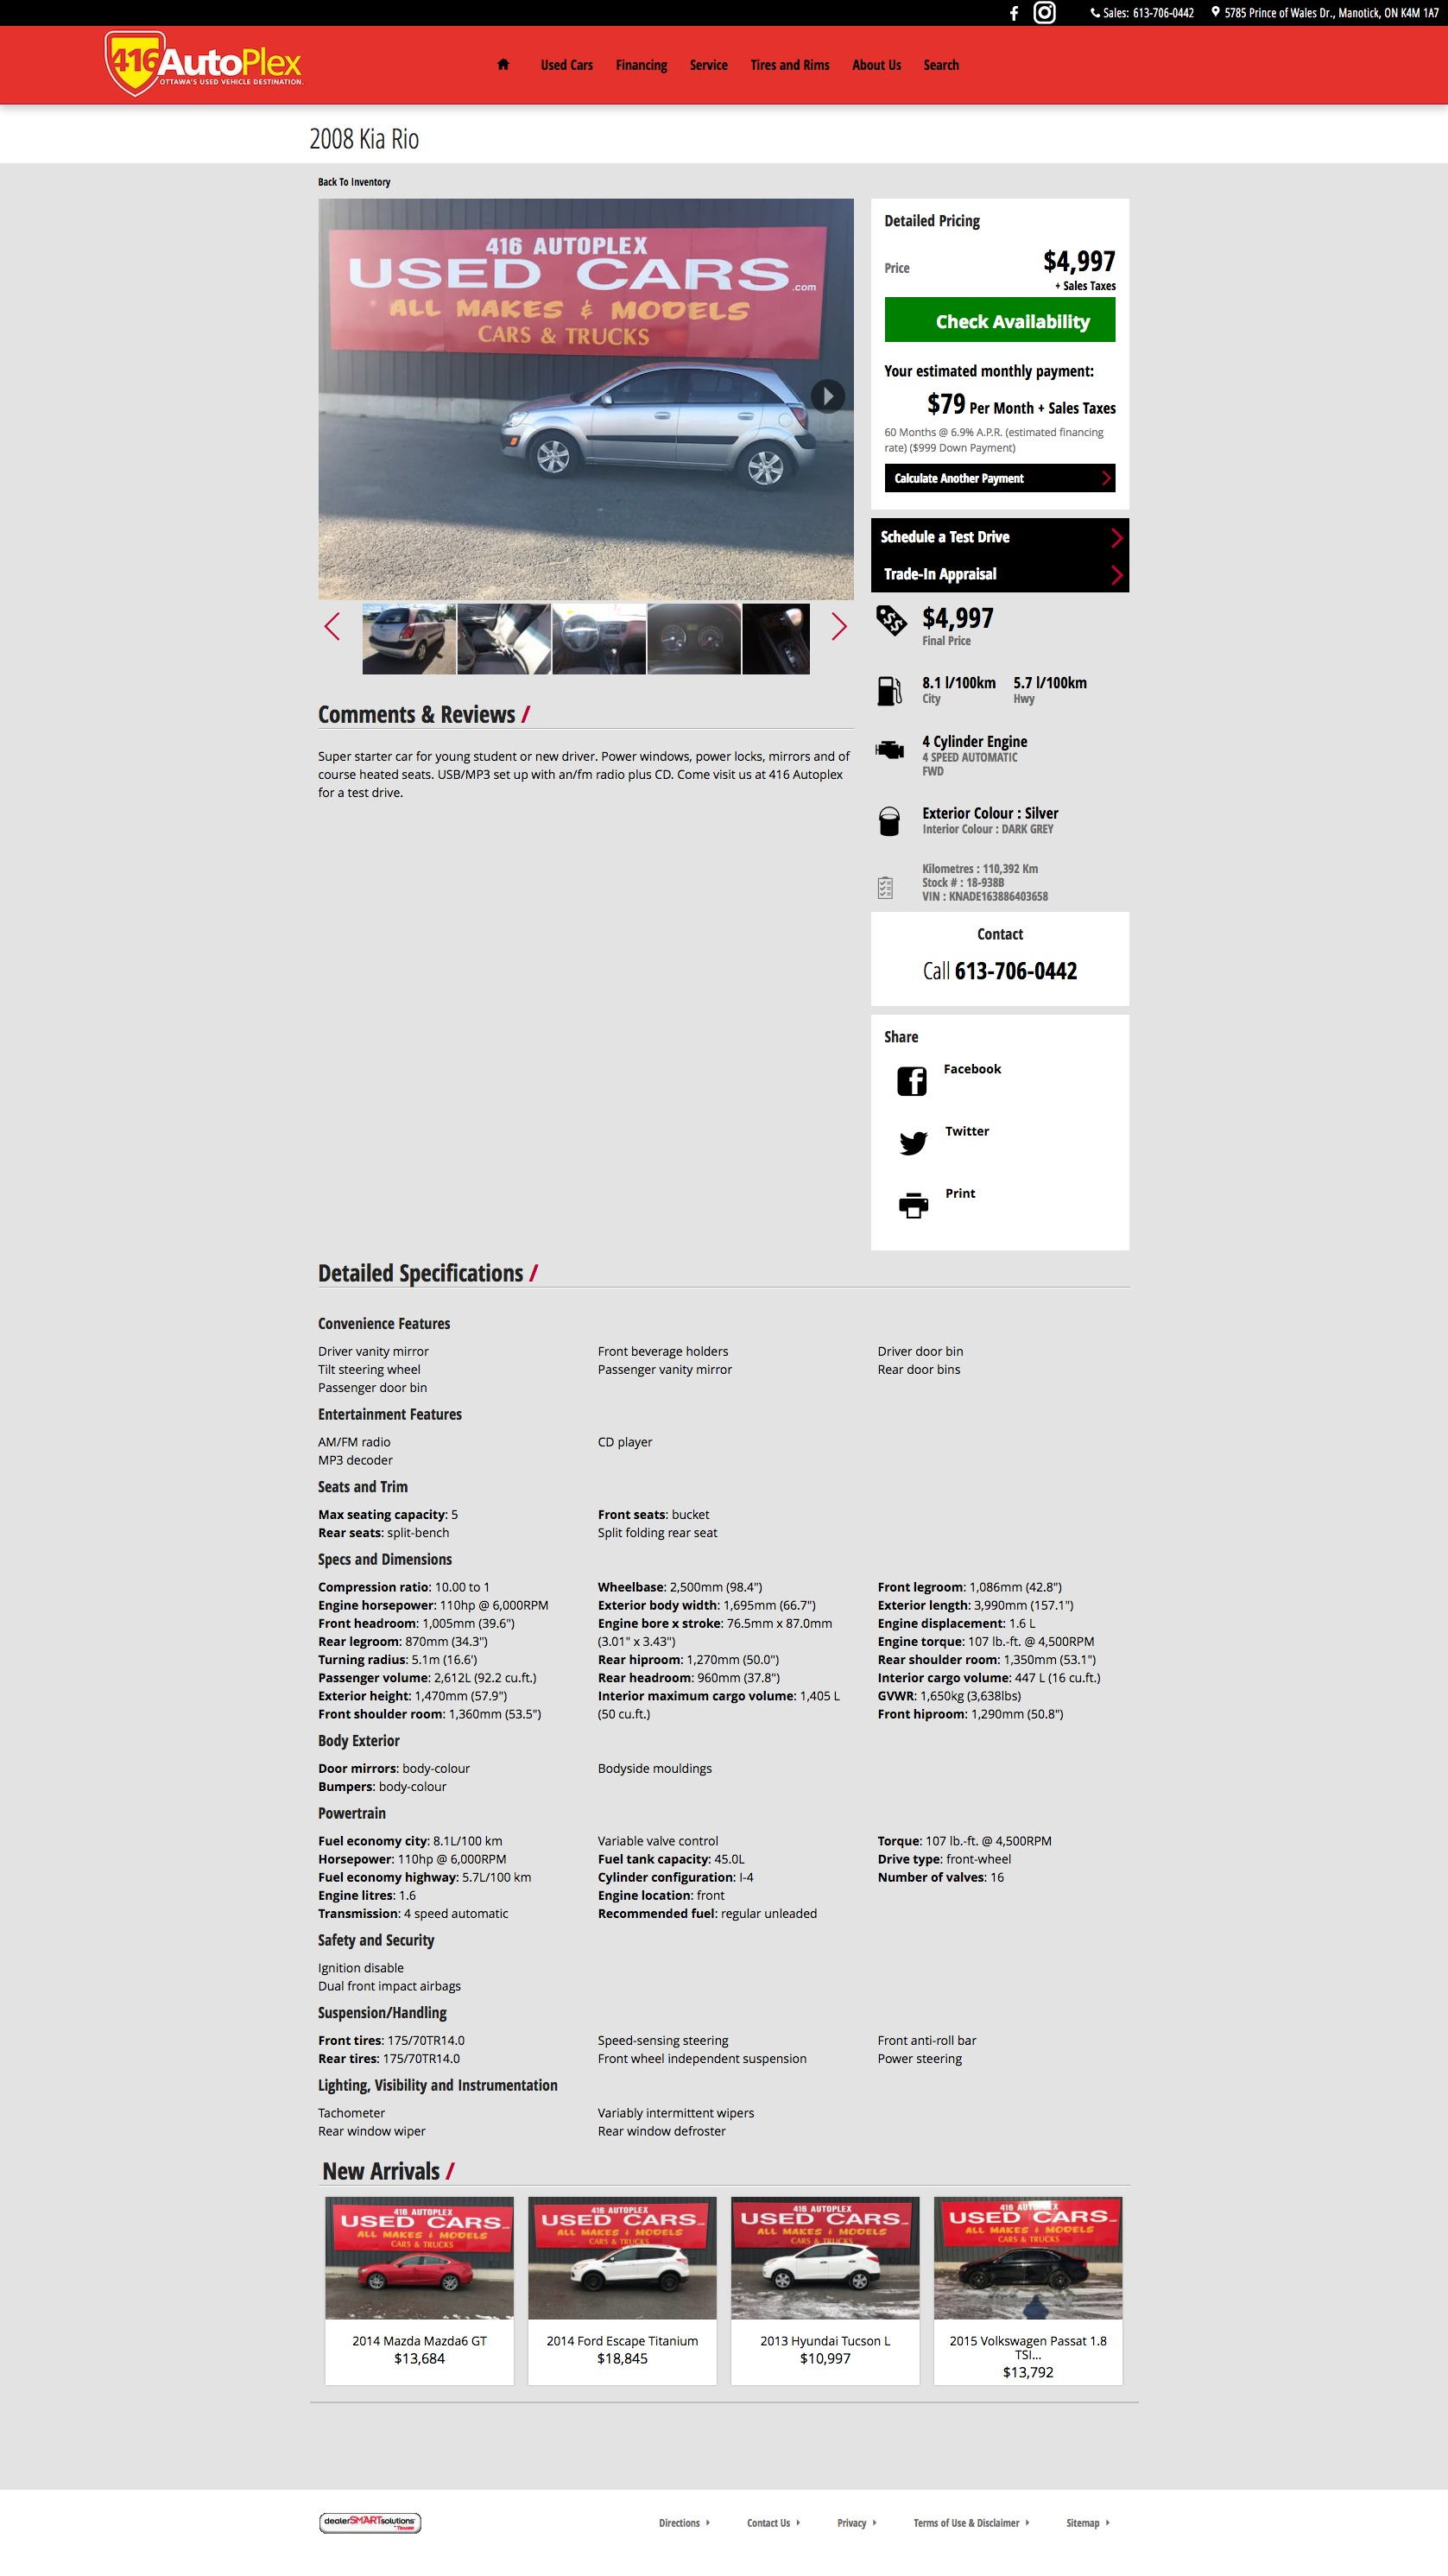car: (831, 614, 849, 642)
